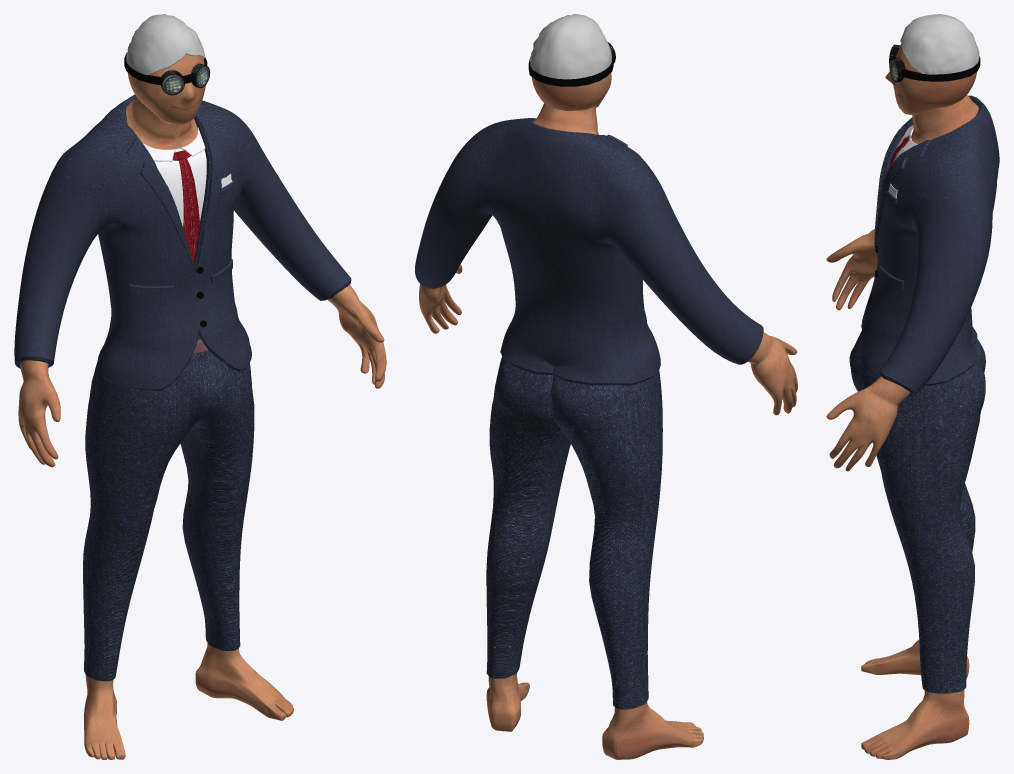
File: theo ny.fbx
3 views of the same model, side by side, from view 1: azimuth 30°, elevation 25°; view 2: azimuth 150°, elevation 25°; view 3: azimuth 270°, elevation 25° (orthographic). The views are drawn at different scales.
Visible parts, largest first — view 1: glass_4, tie1; view 2: glass_4; view 3: glass_4.
Boxes of the visible parts, x1,y1,x2,y2 form: glass_4: (14, 14, 386, 759); tie1: (172, 150, 200, 263); glass_4: (415, 14, 797, 759); glass_4: (826, 14, 999, 759).
Bounding box in the file's own units: 6.05 × 11.42 × 2.58.
